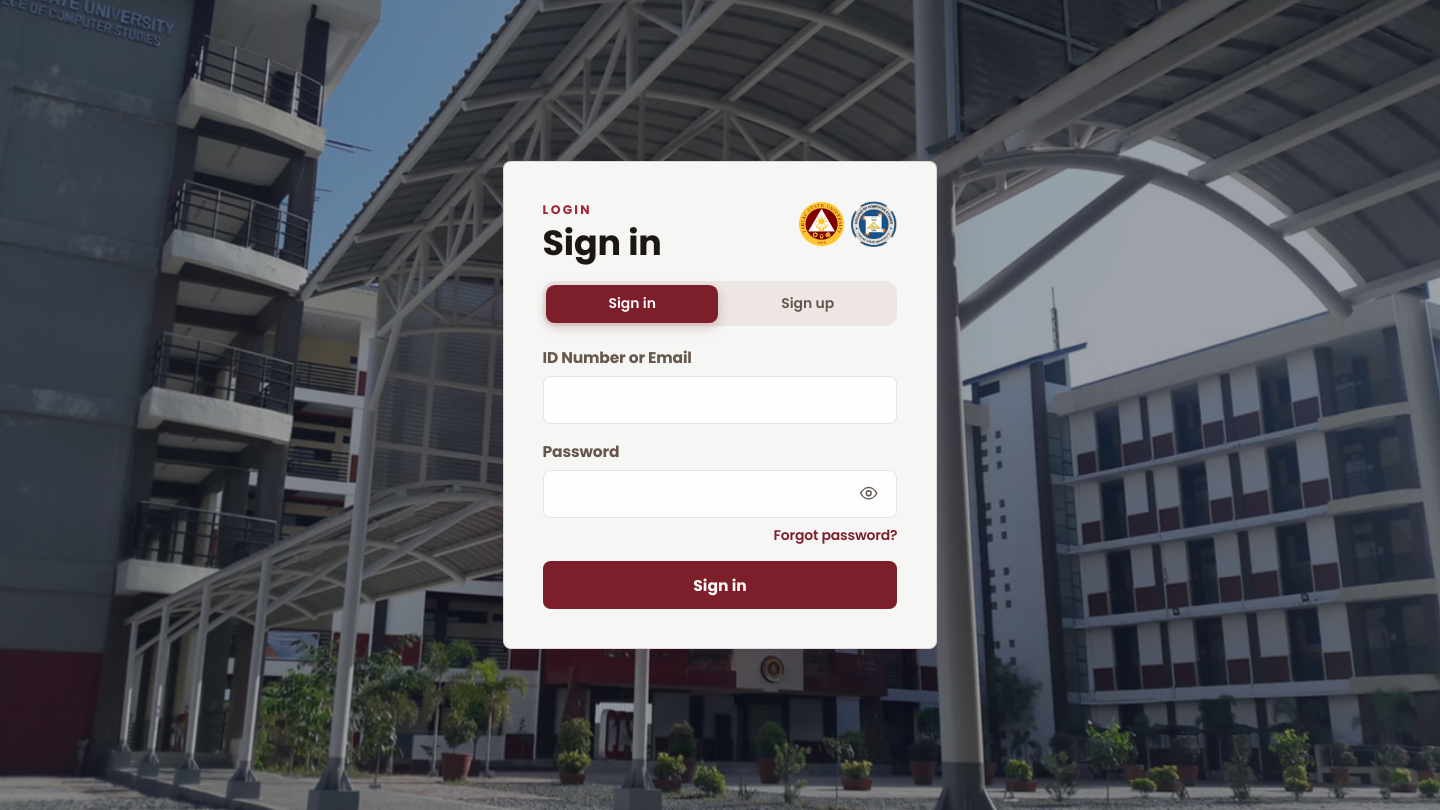
it: LoginPage › says when no account uses the ID number or email
Type "nobody@school.edu.ph" into the field labelled "ID Number or Email" at (720, 400), box [542,376,898,424]
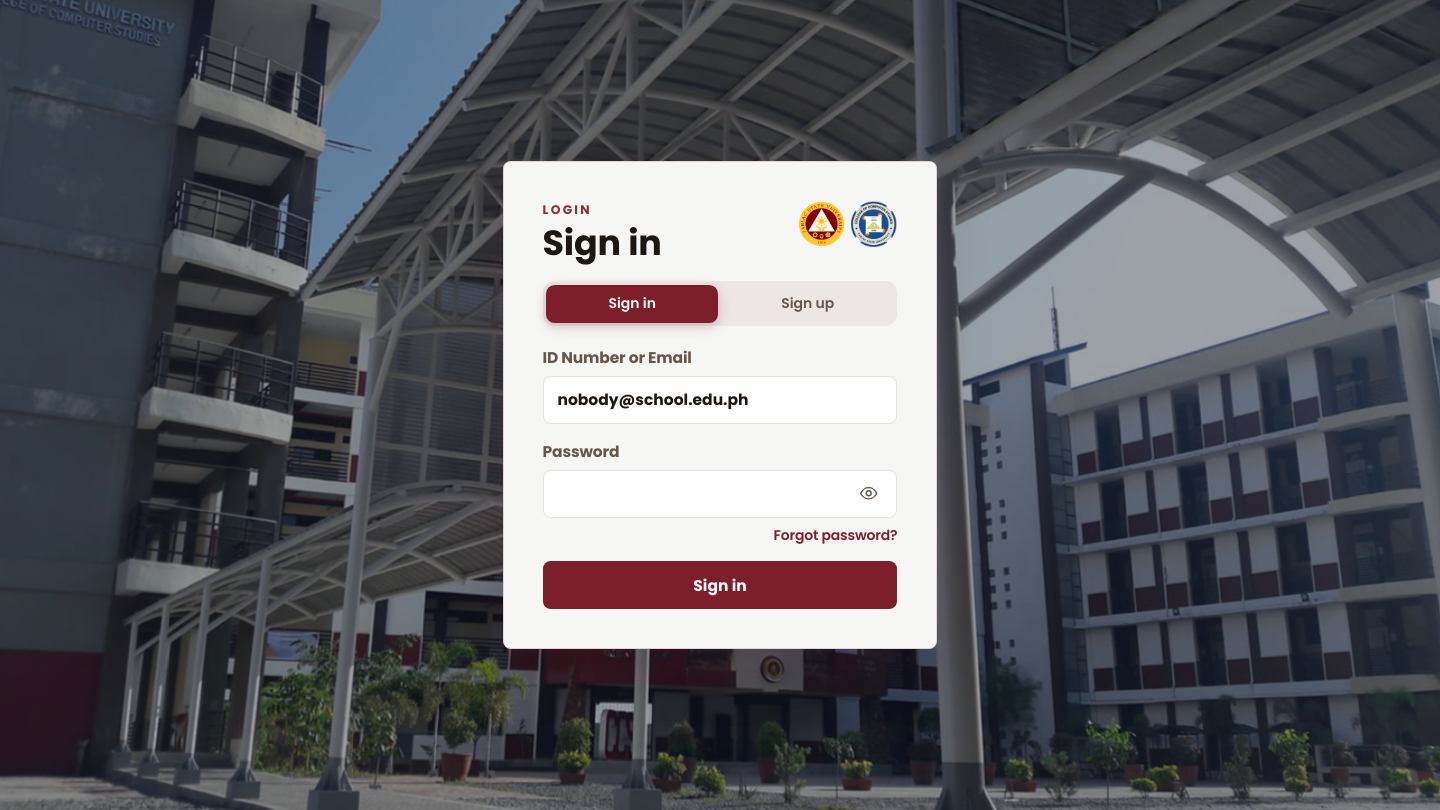
Type "longenough" into the password field labelled "Password" at (720, 494), box [542,470,898,518]
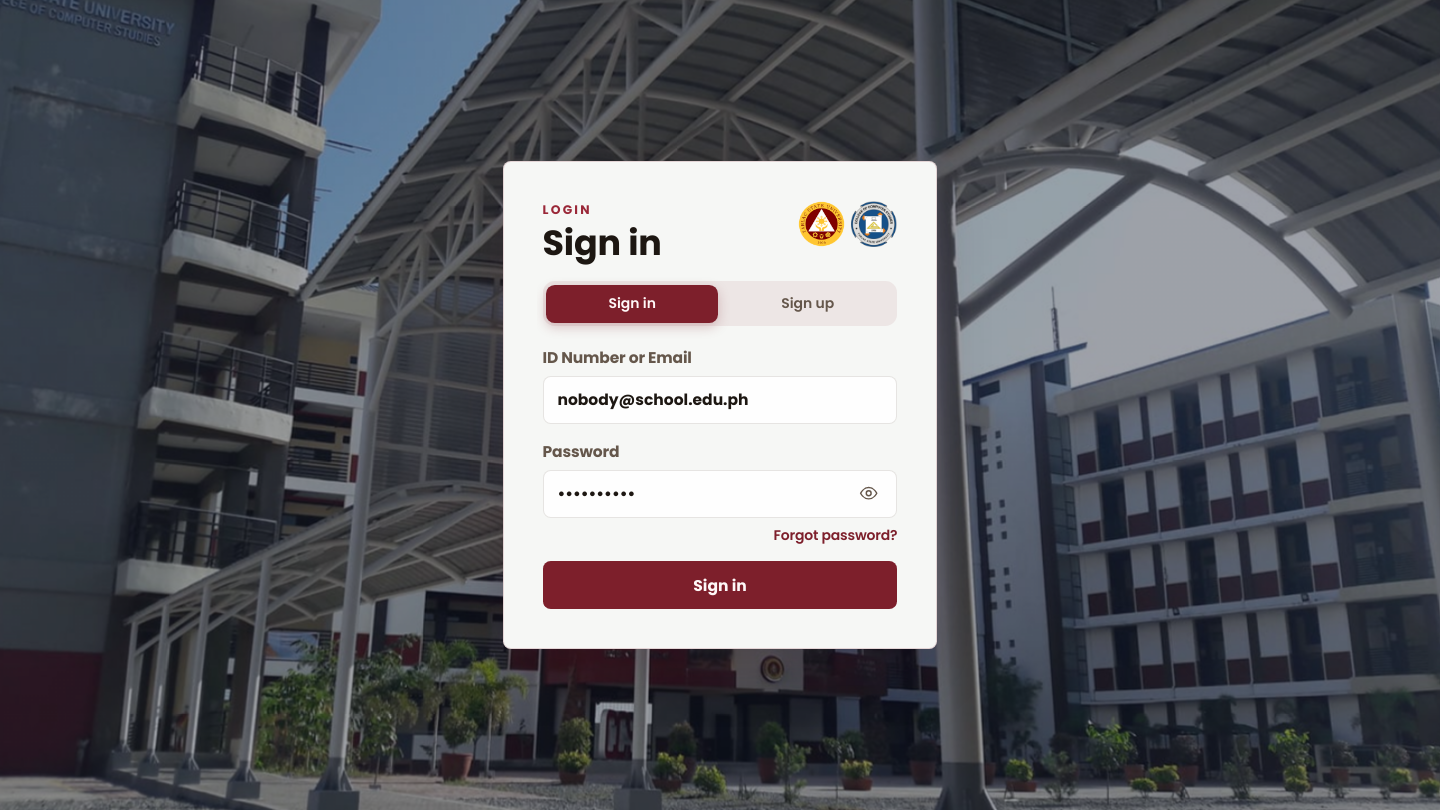
Click the button "Sign in" below "Forgot password?" at (720, 585), box [542,561,898,609]
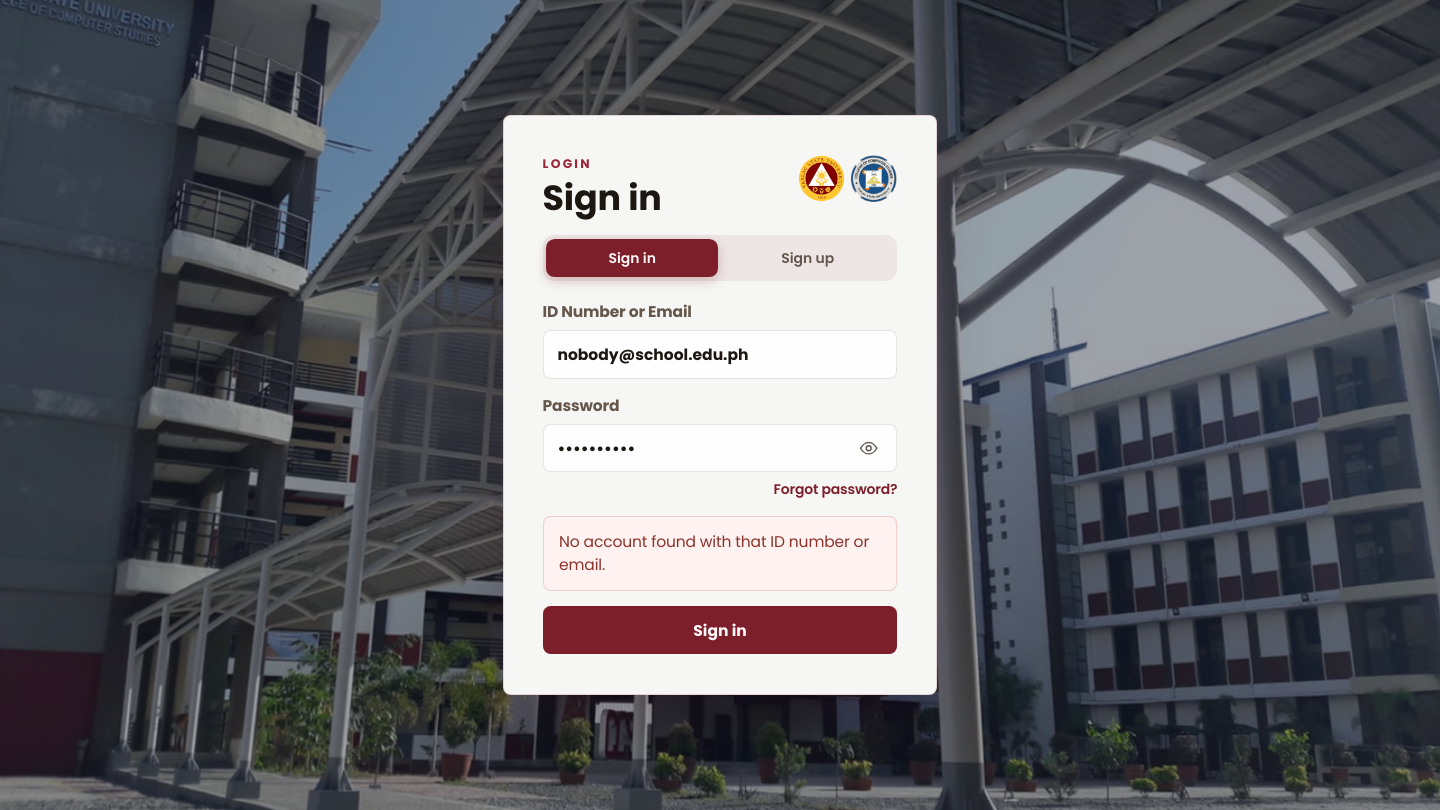
Check: the message reads "No account found with that ID number or email.", box [559,531,869,575]
